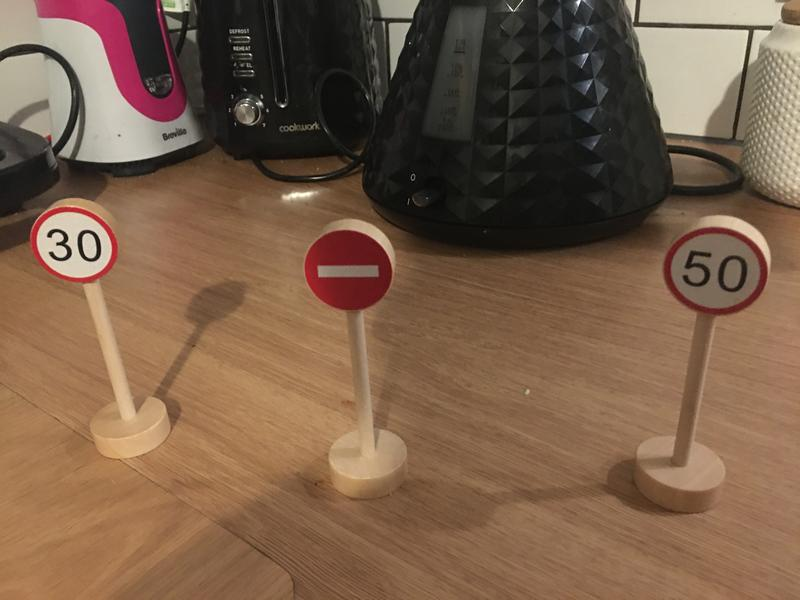Traffic_Sign_30: (32, 208, 116, 284)
Traffic_Sign_50: (667, 227, 767, 314)
Traffic_Sign_No_Entry: (303, 230, 393, 309)
